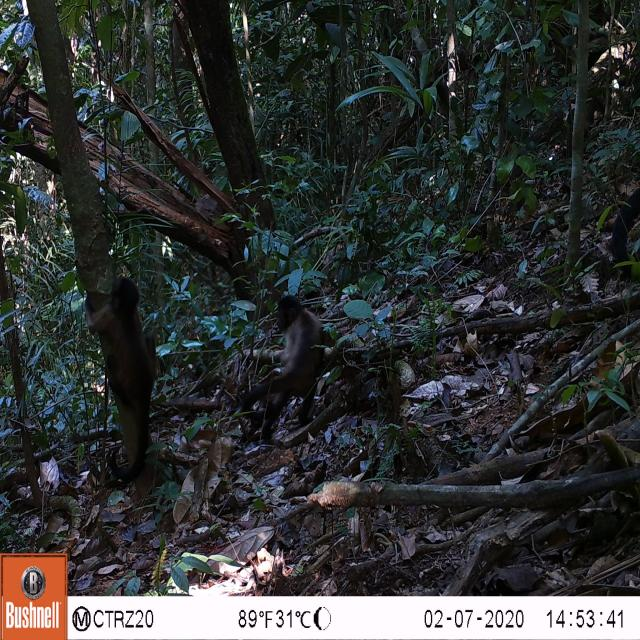Margarita Island Capuchin: (82, 273, 162, 465), (238, 289, 326, 433), (606, 182, 640, 284)
